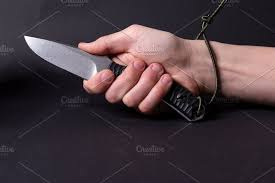knife: (20, 30, 208, 129)
